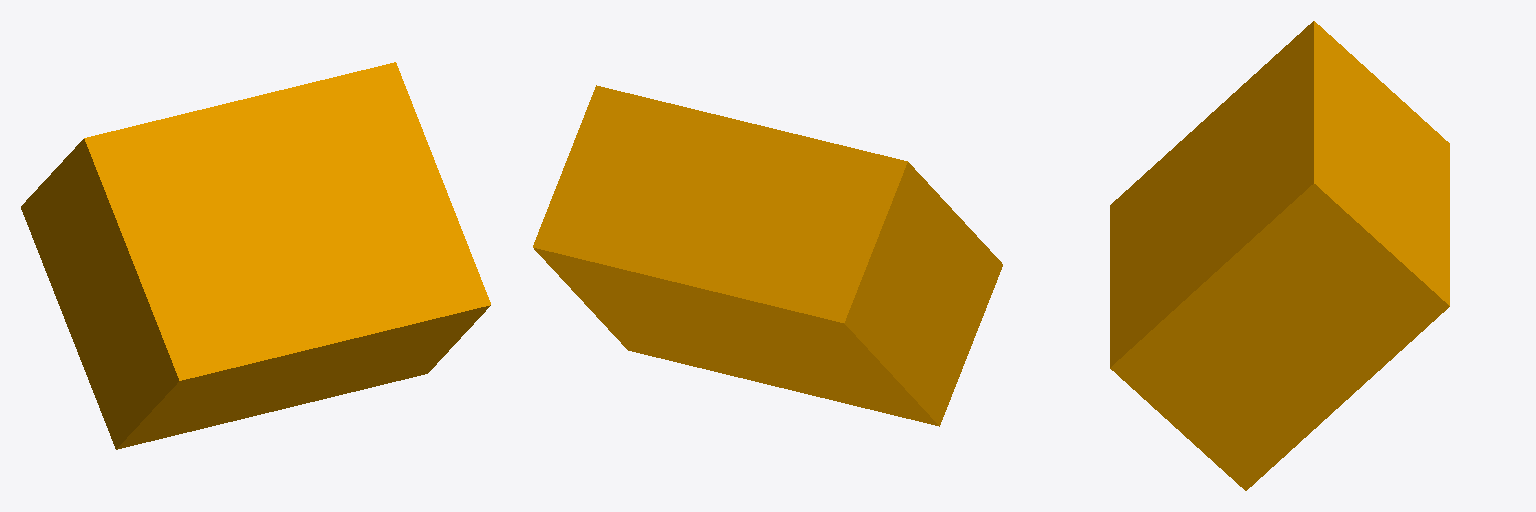
The robot description file, URDF, robot "link_geometry_box":
<?xml version="1.0"?>
<robot name="link_geometry_box">
    <link name="base_link">
        <visual>
            <origin xyz="0 0 0" rpy="0.785398 0 0"/>
            <geometry>
                <box size="4 3 2"/>
            </geometry>
        </visual>
    </link>
</robot>

--- Facts derived from the render (not from the file) ---
3 views of the same robot in one strip: view 1: azimuth 30°, elevation 25°; view 2: azimuth 150°, elevation 25°; view 3: azimuth 270°, elevation 25° (orthographic).
Model link_geometry_box with 1 links and 0 joints (none), rooted at base_link, posed every joint at zero.
Links seen in each view (by area): view 1: base_link; view 2: base_link; view 3: base_link.
Link boxes in pixels (x1=…): base_link: x1=21, y1=62, x2=490, y2=449; base_link: x1=533, y1=85, x2=1002, y2=426; base_link: x1=1110, y1=21, x2=1449, y2=490.
Bounding box of the posed robot: 4 × 3.54 × 3.54 m (x, y, z).
Geometry: primitives only (box / cylinder / sphere), no mesh files.
